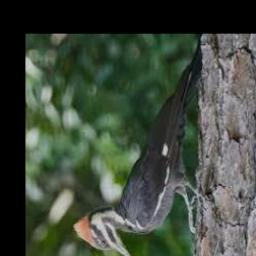Woodpecker: (72, 36, 204, 256)
